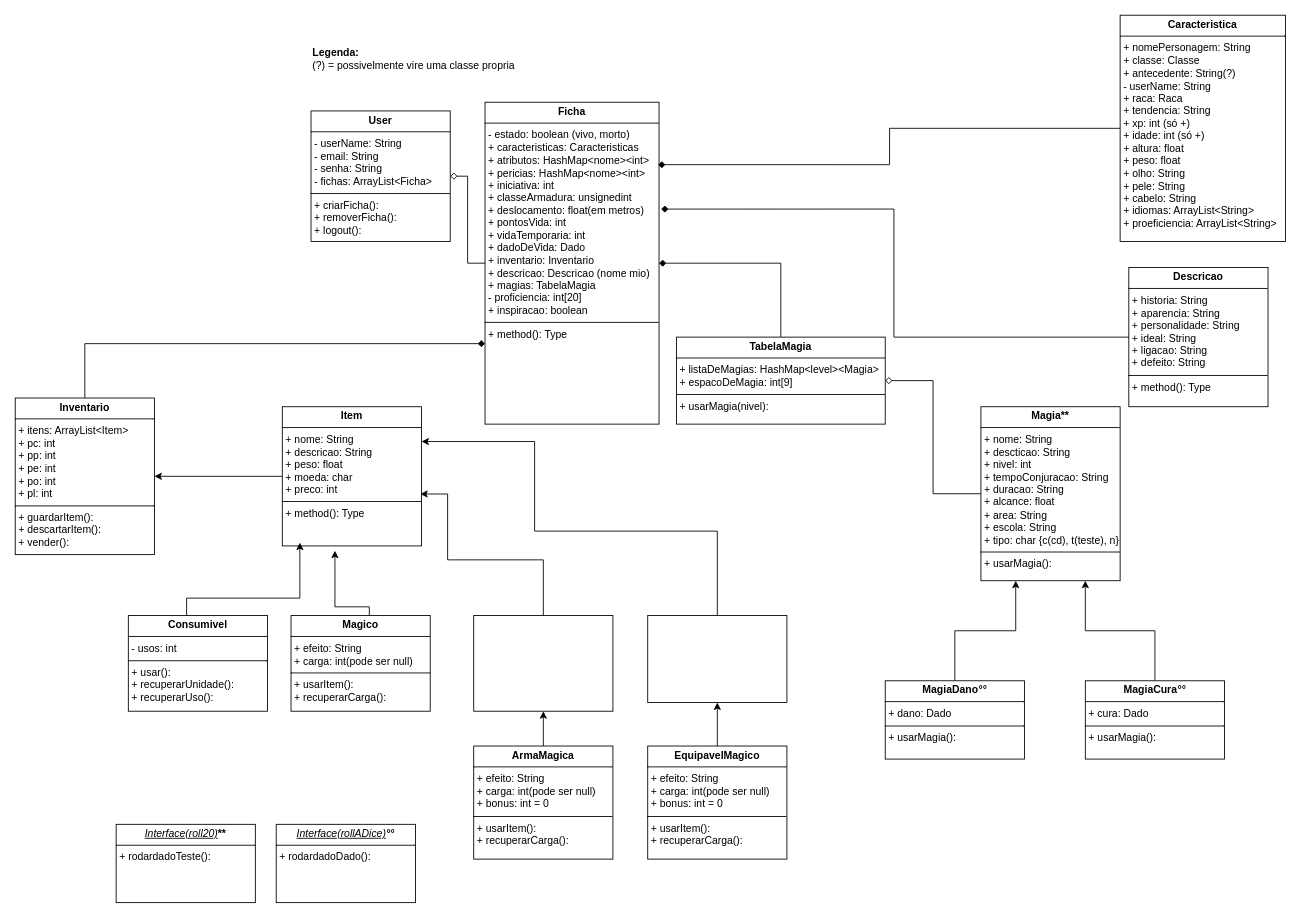
Image size: 1301x918. Some labels were removed from this diagram. Here are the shapes that lost their labels. From the top down, the centre of each, then its label:
At (543,663): "Arma ** °° + dano: Dado + atributo: int + proeficiencia: boolean + rodarDano():".
At (717,659): "Equipavel + bonusCA: int = 0 + proeficiencia: boolean + method(): Type".
